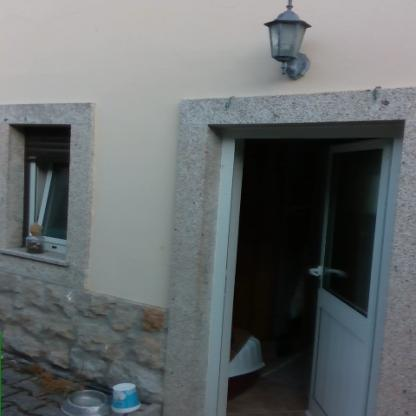semi: (202, 96, 415, 415)
